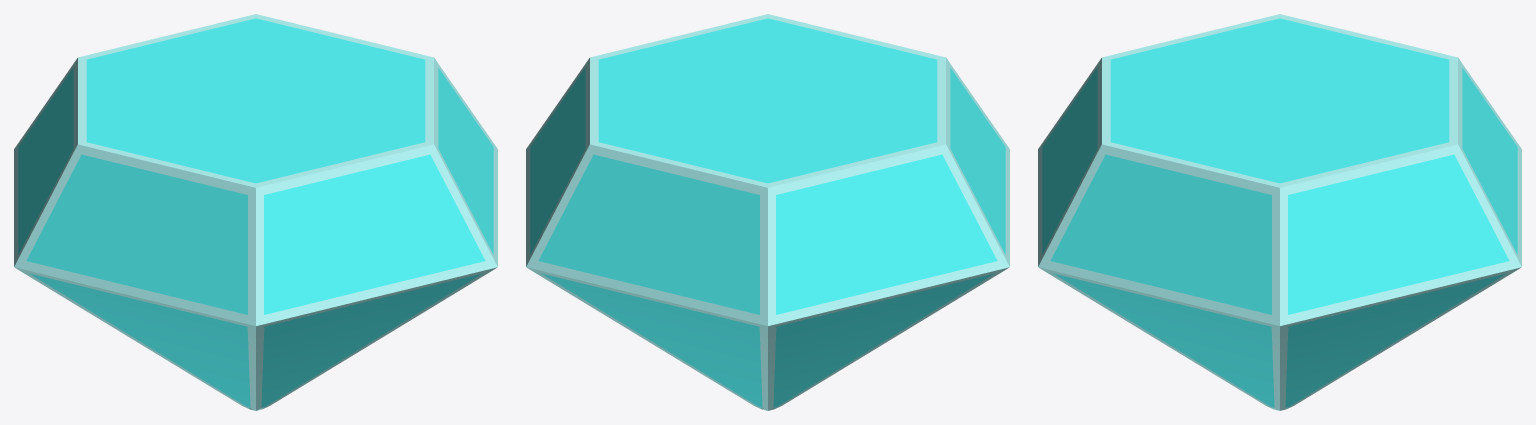
The model's file is diamond.fbx.
3 renders of one model, left to right at view 1: azimuth 30°, elevation 25°; view 2: azimuth 150°, elevation 25°; view 3: azimuth 270°, elevation 25°, orthographic.
Parts seen in each view (by area): view 1: Diamond; view 2: Diamond; view 3: Diamond.
Boxes of the visible parts, x1,y1,x2,y2 form: Diamond: (14, 14, 497, 410); Diamond: (526, 14, 1009, 410); Diamond: (1038, 14, 1521, 410).
Size of the model in its own units: 99.73 by 60.48 by 86.37.
